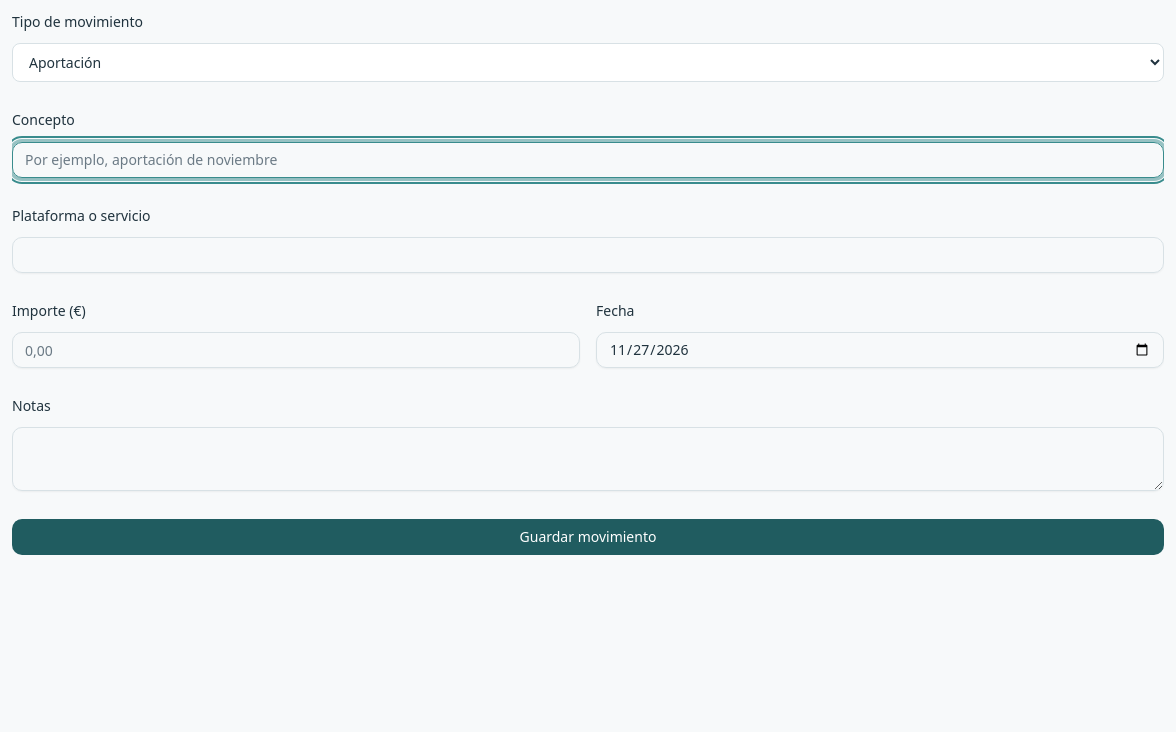
Test: formulario de ahorros e inversión › exige destino e importe válido antes de guardar
In the field labelled "Concepto": (588, 160) top-left (12, 142), bottom-right (1164, 178), type "Aportación"
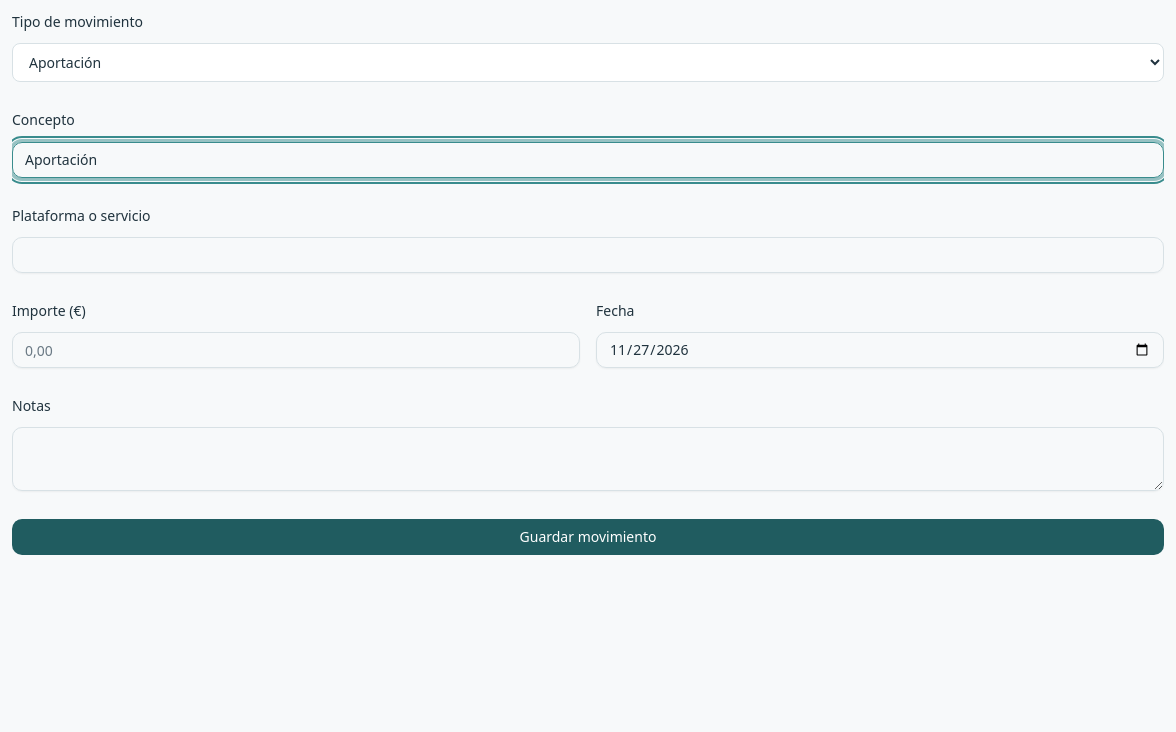
In the field labelled "Importe (€)": (296, 350) top-left (12, 332), bottom-right (580, 368), type "1,234"
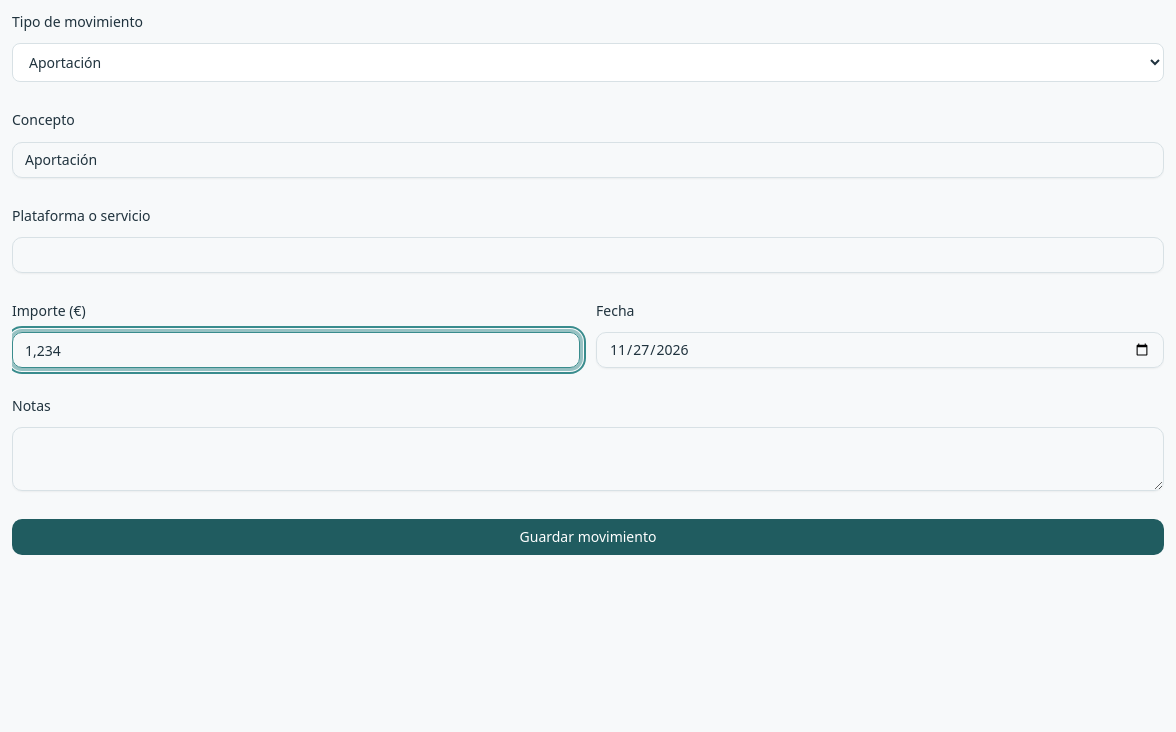
Click the button "Guardar movimiento": click(588, 537) top-left (12, 519), bottom-right (1164, 555)
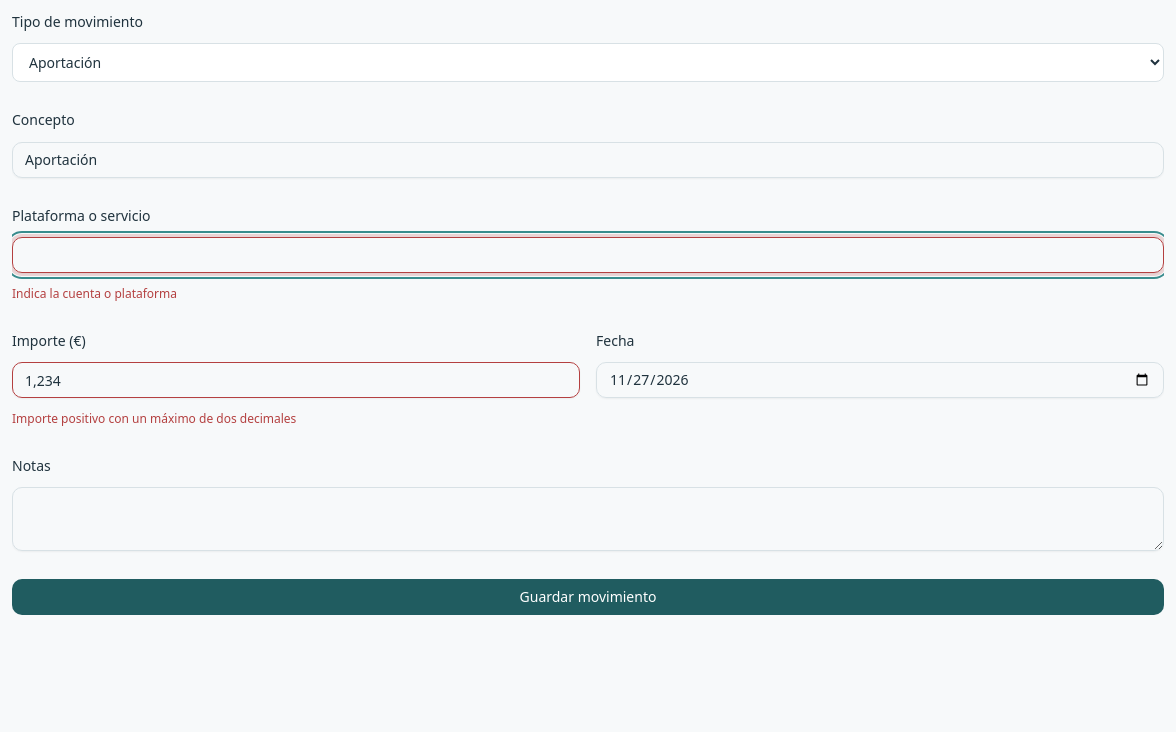
Now the text "Indica la cuenta o plataforma" is shown, box top-left (12, 285), bottom-right (177, 302)
Now the text "Importe positivo con un máximo de dos decimales" is shown, box top-left (12, 410), bottom-right (296, 427)
